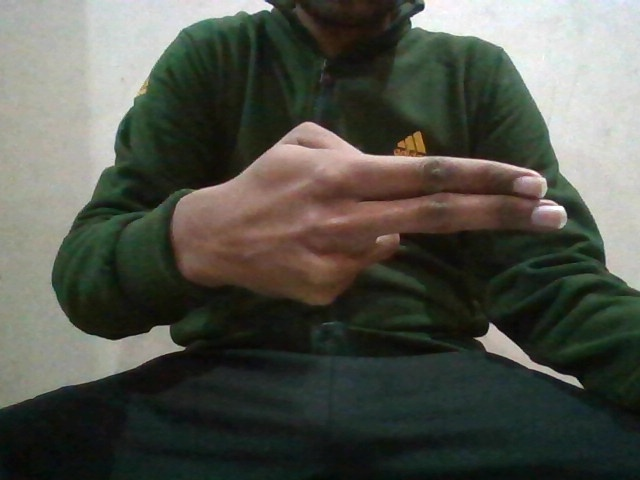H: (188, 115, 571, 309)
